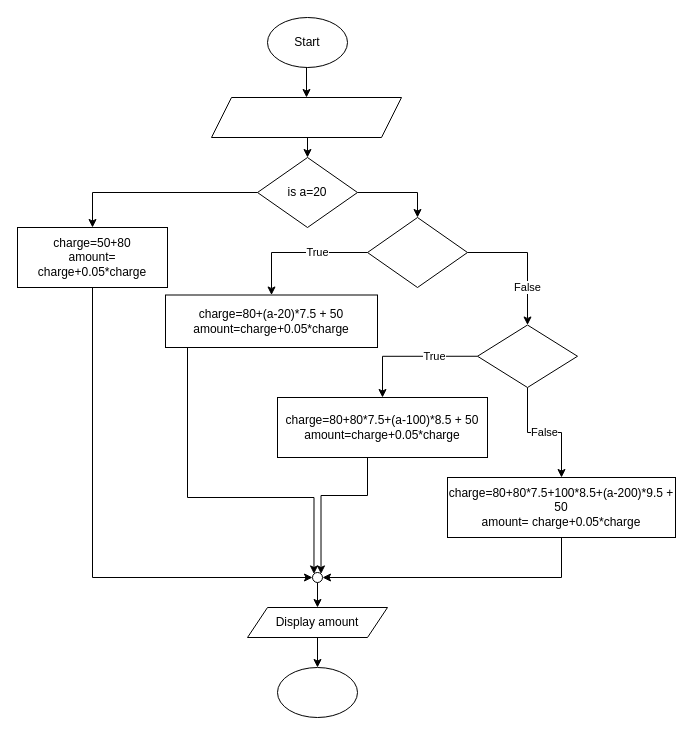
Some shapes in this 693 by 735 pixel diagram are drawn without their labels. Here are the shapes that lost their labels. From the top down, the centre of each, then its label:
pixel 306 117: Enter the consumed unit
pixel 417 252: is a<=100
pixel 527 356: is a<=300
pixel 317 692: Stop
